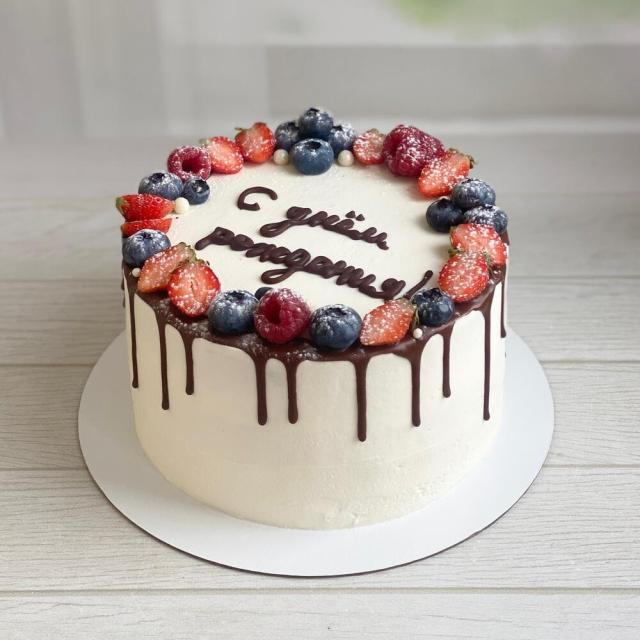Wet Waste: (54, 69, 565, 557)
